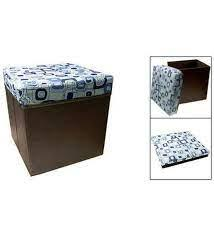cube: (3, 62, 110, 177)
